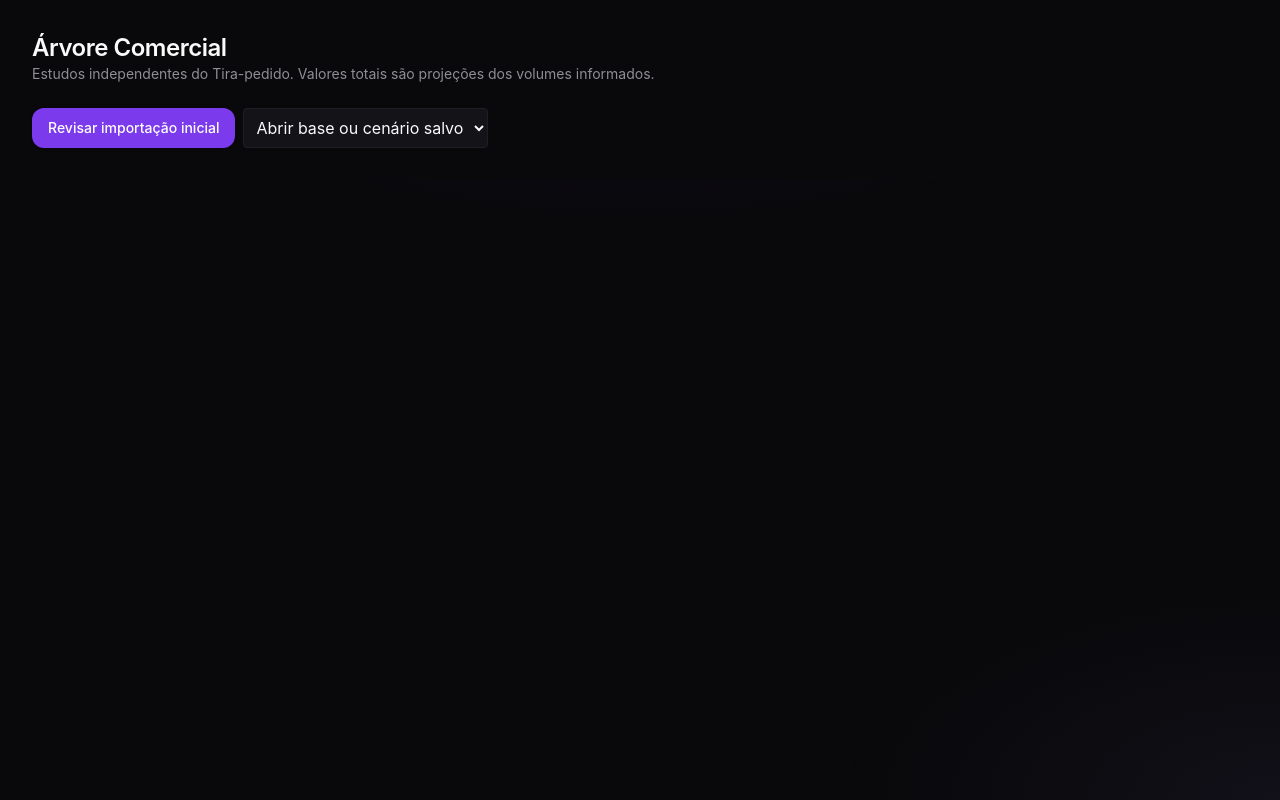
Test: prévia de 114 registros antecede confirmação da importação
Later steps or results of the test are not shown.
What coordinates should you click on to do the following:
click the button "Revisar importação inicial"
I would click on:
 (134, 128)
Its box is [32,108,236,148].
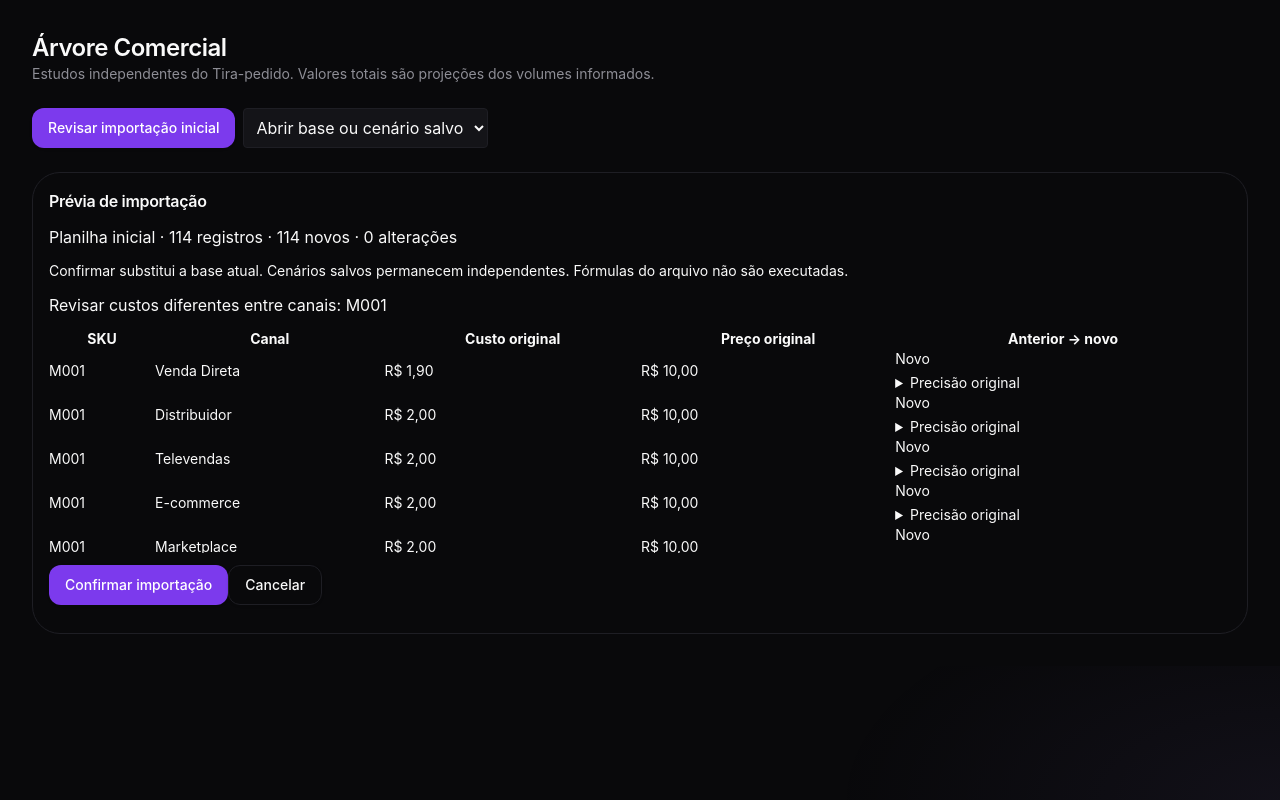
Now the heading "Prévia de importação" is shown, box [49,191,207,211]
Now the text "Planilha inicial · 114 registros · 114 novos · 0 alterações" is shown, box [49,227,457,247]
